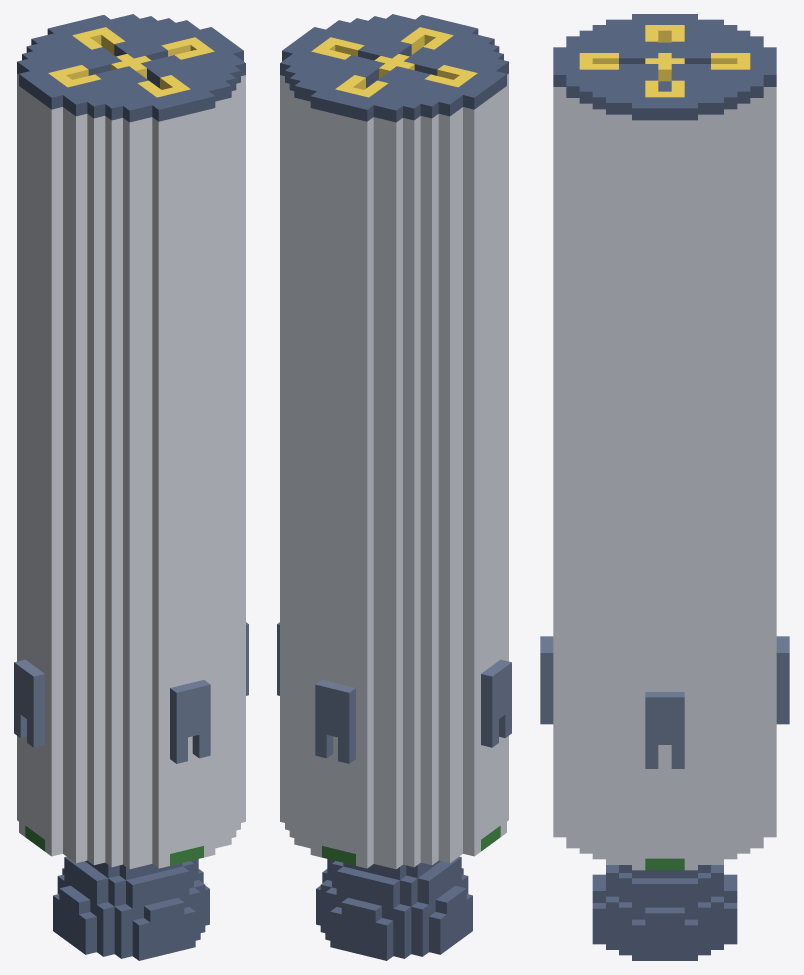
Rendered from pelicano_second_stage.obj.
3 renders of one model, left to right at view 1: azimuth 30°, elevation 25°; view 2: azimuth 150°, elevation 25°; view 3: azimuth 270°, elevation 25°, orthographic.
Size of the model in its own units: 1.9 by 7.3 by 1.9.
Materials: 1 (1 with a texture image).
